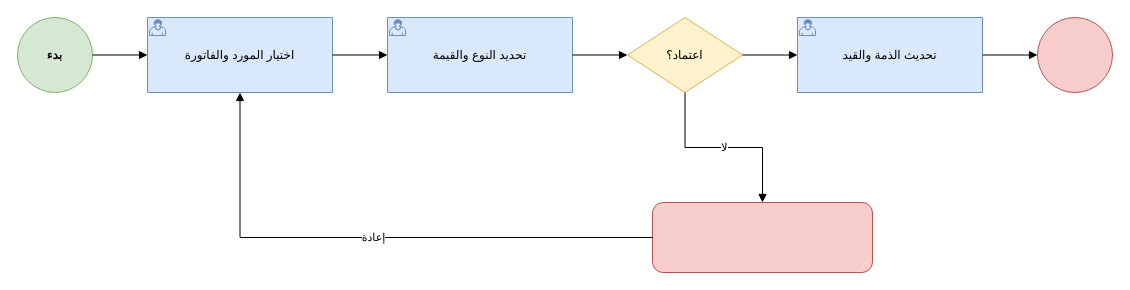
The diagram is 1130 pixels wide and 290 high, and some of its shapes have lost their labels. Here are the shapes that lost their labels. From the top down, the centre of each, then its label:
[1074,54]: انتهاء
[762,237]: تصحيح وإعادة الإرسال
